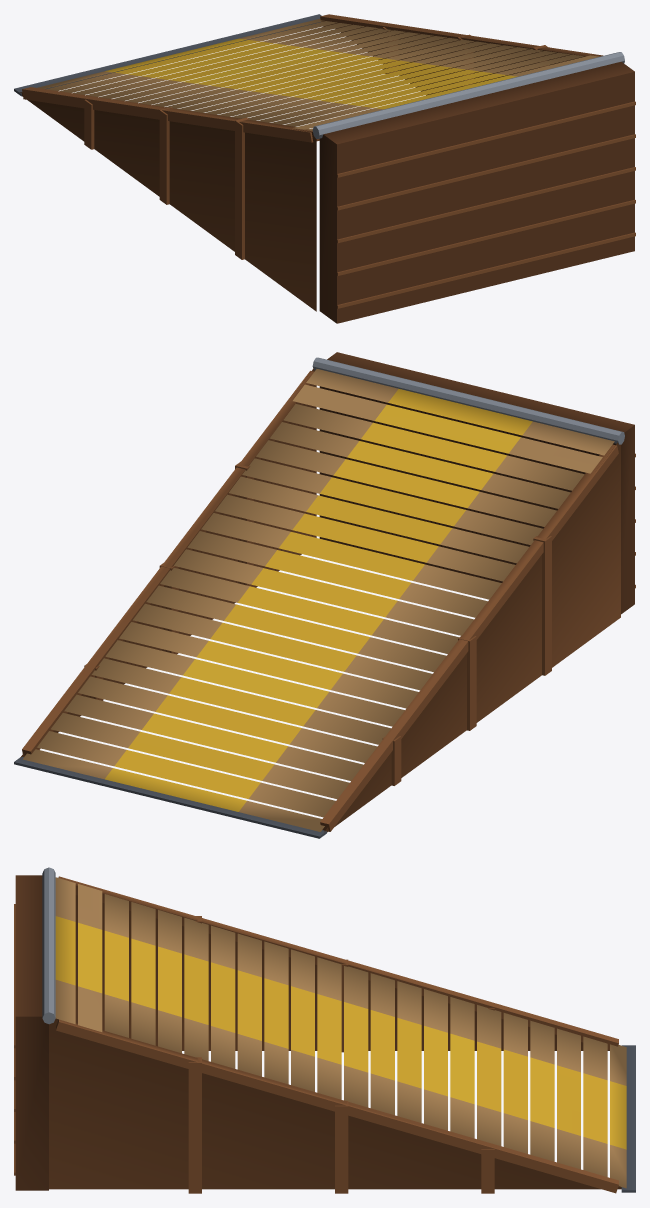
Rendered from m_kicker_gold.glb.
The picture shows the model from 3 angles, top to bottom: view 1: azimuth 30°, elevation 25°; view 2: azimuth 150°, elevation 25°; view 3: azimuth 270°, elevation 25°; orthographic projection. The views are drawn at different scales.
Parts seen in each view (by area): view 1: m_kicker_gold; view 2: m_kicker_gold; view 3: m_kicker_gold.
Boxes of the visible parts, bbox=[...] form: m_kicker_gold: bbox=[14, 14, 635, 323]; m_kicker_gold: bbox=[14, 352, 635, 838]; m_kicker_gold: bbox=[14, 867, 635, 1193].
Bounding box in the file's own units: 4.16 × 2.39 × 7.44.
